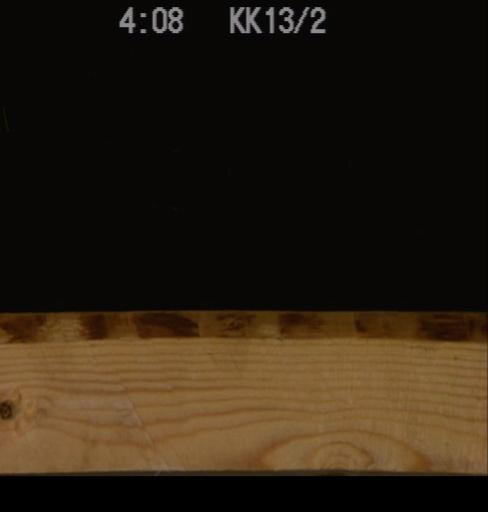dry_knot: (0, 397, 11, 420)
wave: (0, 310, 486, 354)
